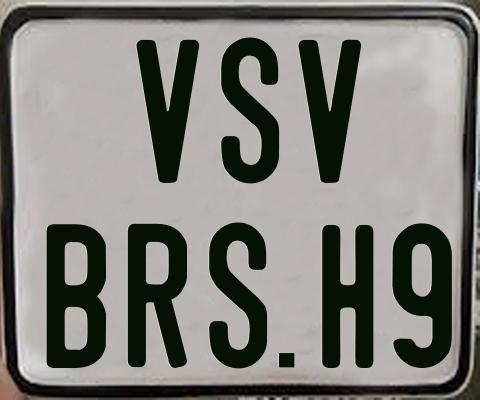9: (390, 223, 450, 374)
B: (45, 221, 106, 366)
H: (322, 222, 380, 368)
R: (126, 223, 188, 371)
S: (219, 36, 281, 188), (207, 222, 268, 375)
V: (296, 38, 364, 182), (133, 39, 196, 186)
